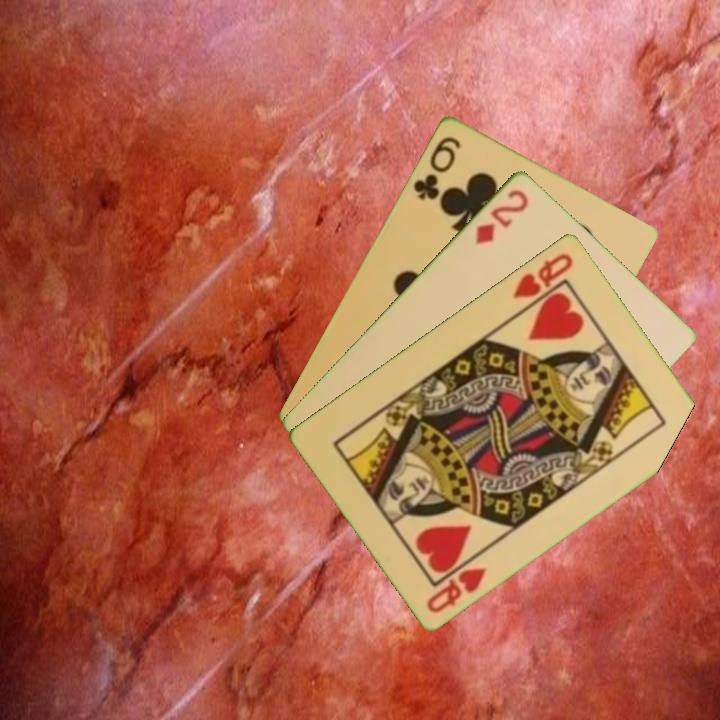2d: (471, 185, 532, 248)
6c: (409, 132, 464, 203)
Qh: (423, 563, 490, 616), (509, 249, 576, 301)
